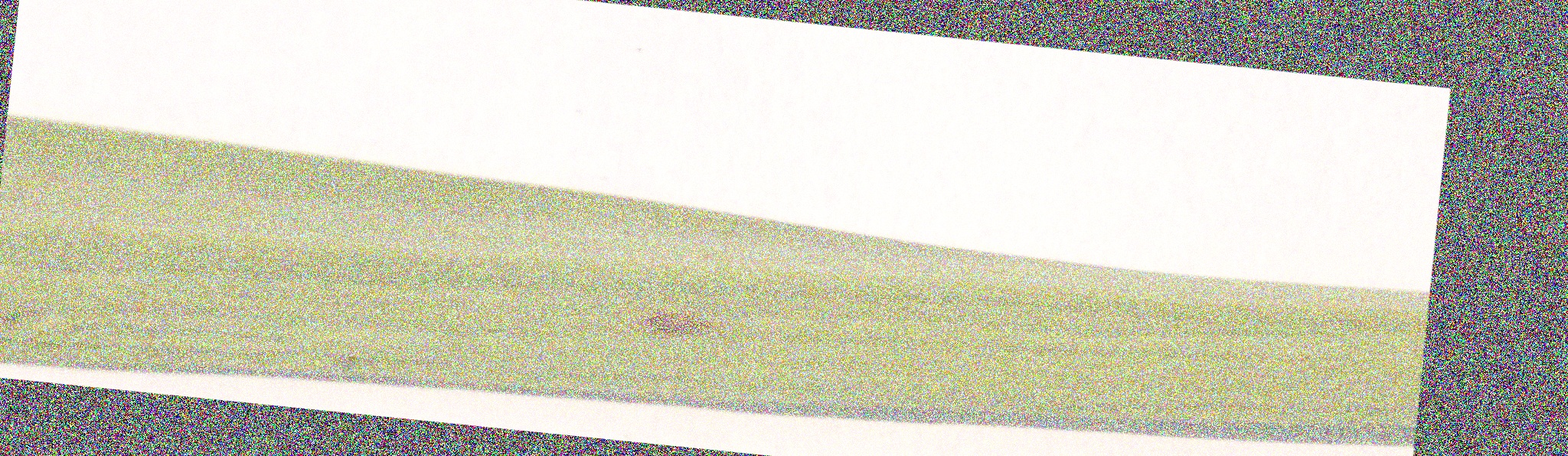Bacterial_Leaf_Blight: (629, 288, 753, 350)
